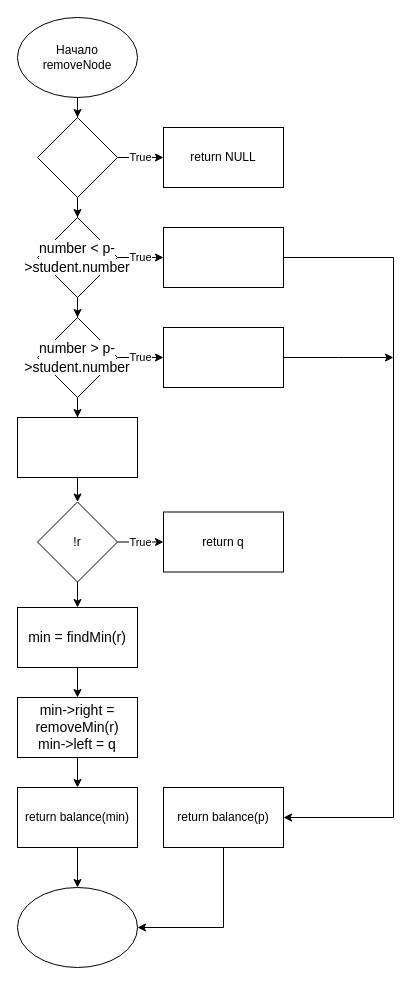
This 419x985 diagram has some shape labels left out. The shapes that lost their labels are listed below. From the top down, each one's centre as x and y in pixels, then its label:
At (77,157): "Узла не существует".
At (223,257): "p->left = removeNode(p->left, number)".
At (223,357): "p->right = removeNode(p->right, number)".
At (77,447): "q = p->left r = p->right".
At (77,927): "Конец".
